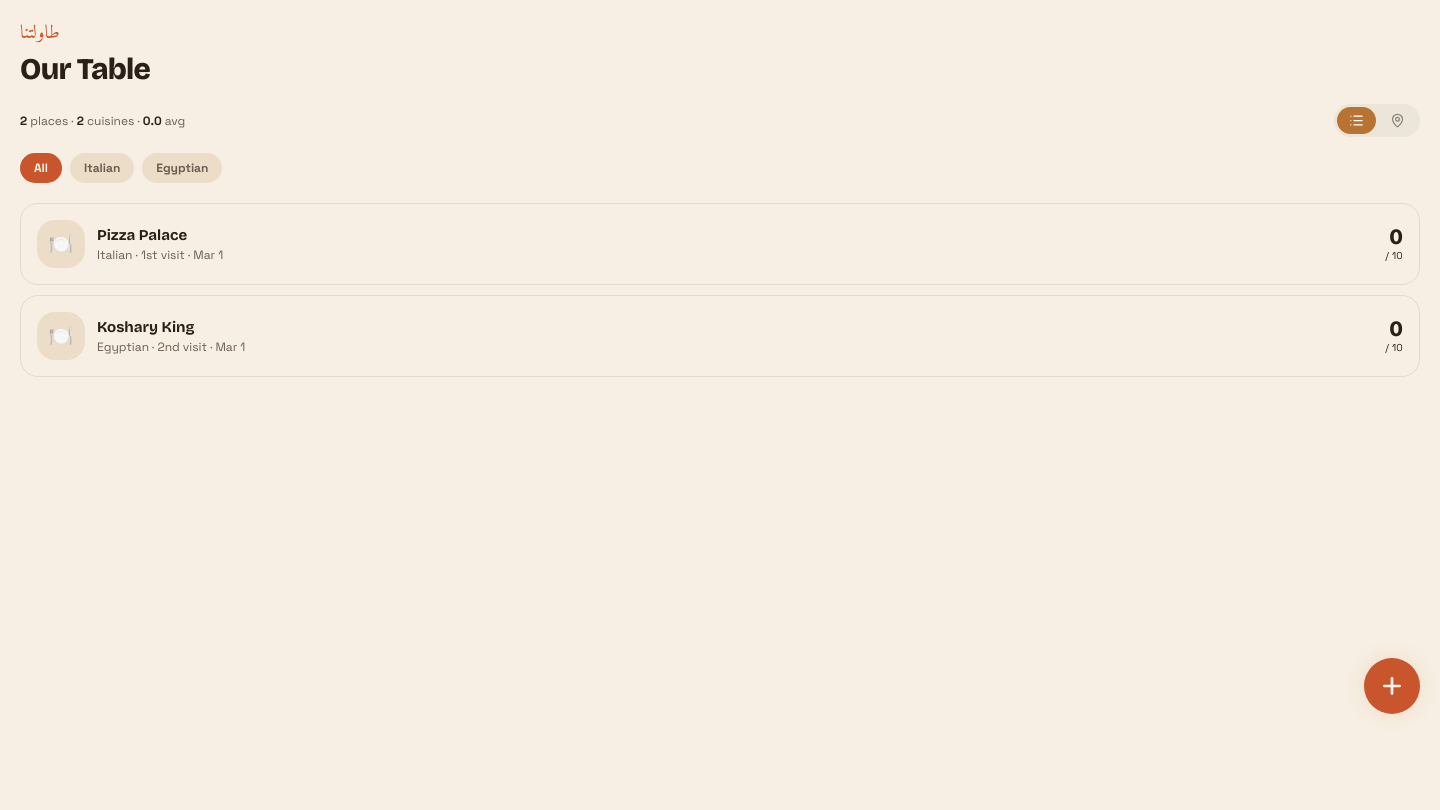
Test: OurTablePage › filters the list down to the selected cuisine
This screenshot has width=1440, height=810.
Check: the text "Pizza Palace" is shown, box [97,226,187,244]
Check: the text "Koshary King" is shown, box [97,318,194,336]
Filter to Italian — only Pizza Palace remains
Click the button "Italian" at [102, 168], box [70,153,134,183]
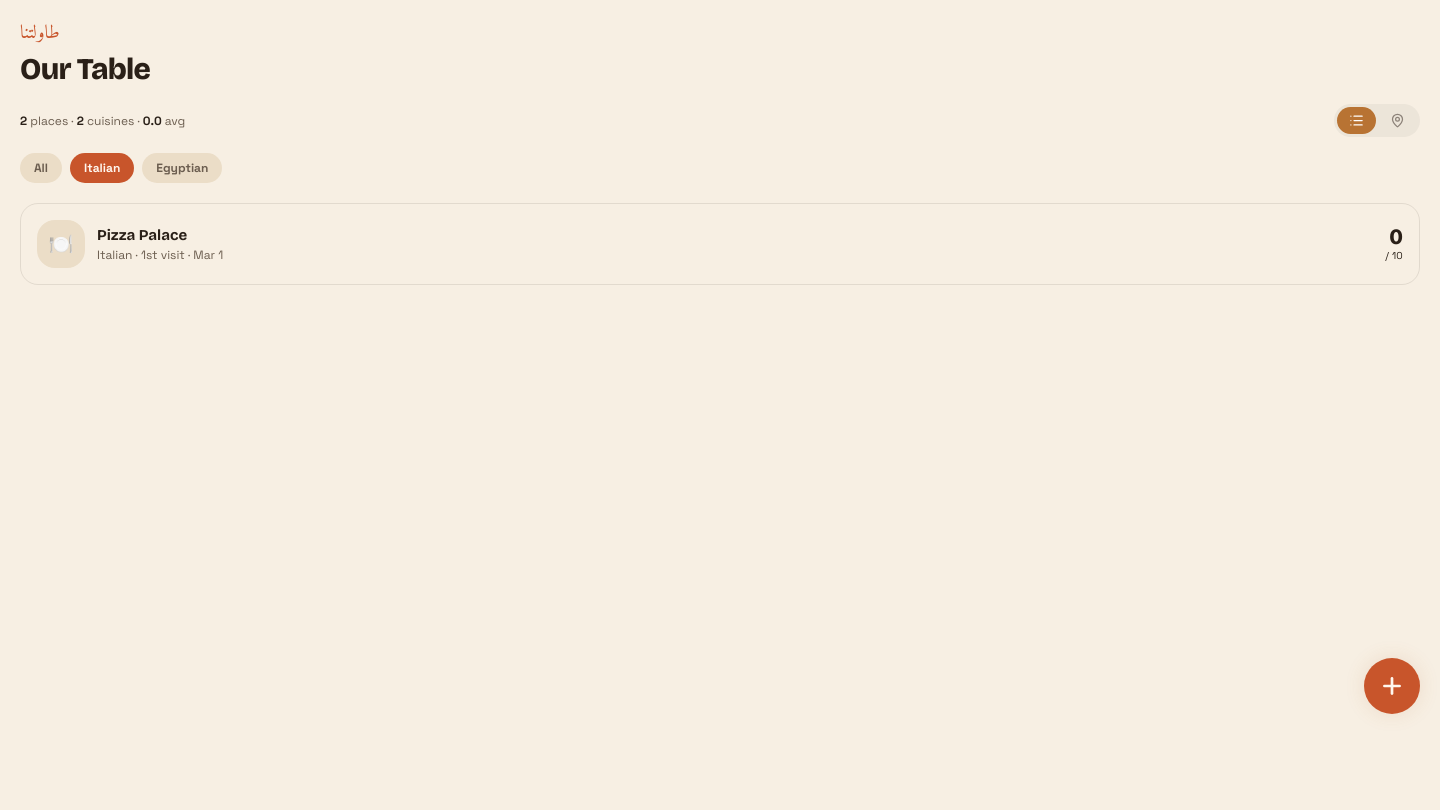
Check: the text "Pizza Palace" is shown, box [97,226,187,244]
Check: the text "Koshary King" is gone
Back to All — both return
Click the button "All" at [41, 168], box [20,153,62,183]
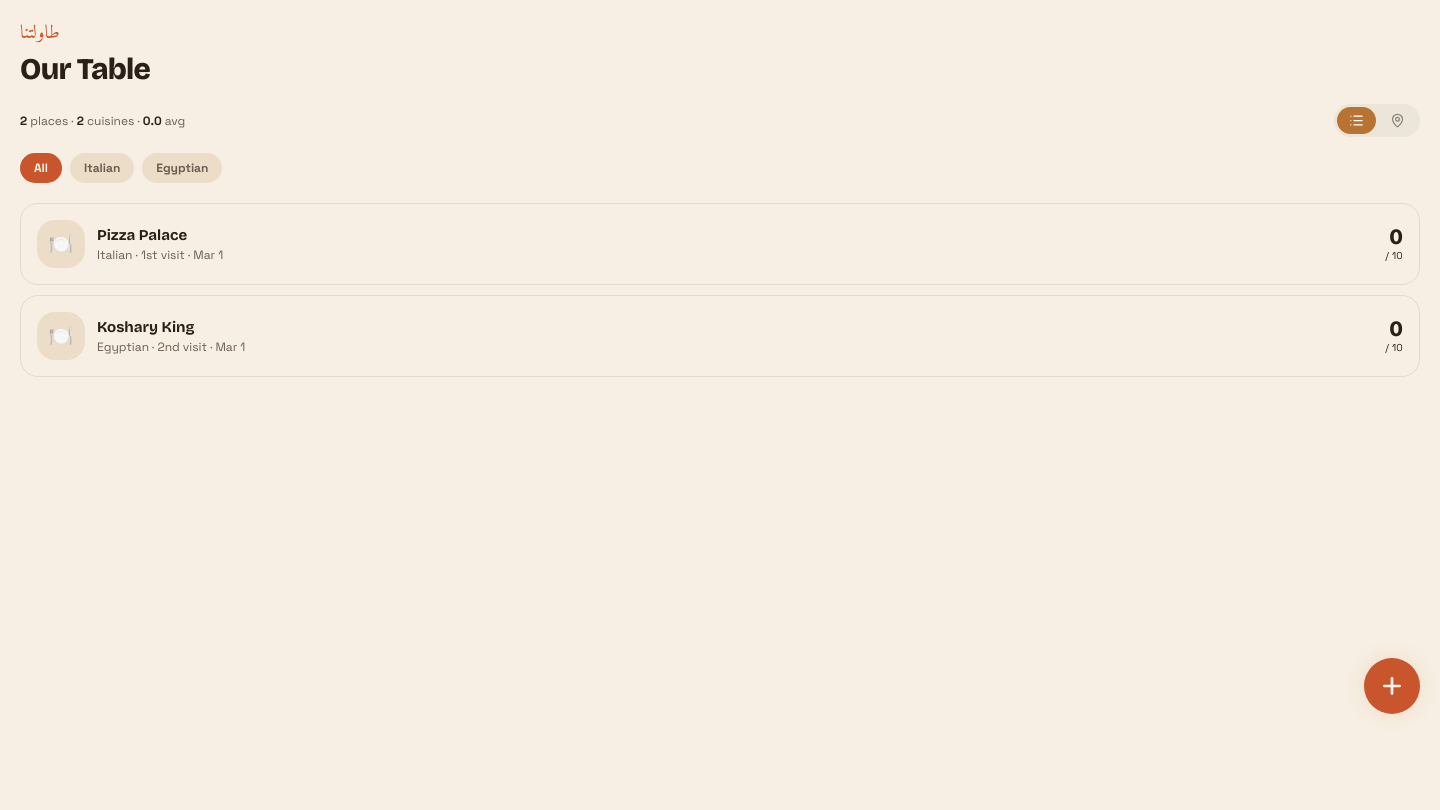
Check: the text "Koshary King" is shown, box [97,318,194,336]
